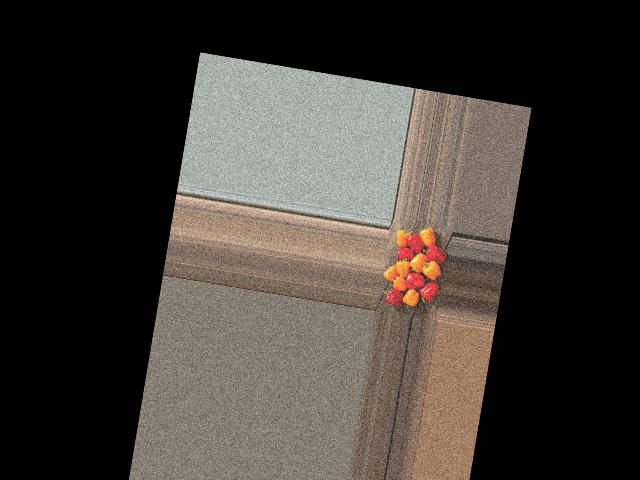bell_pepper: (416, 225, 441, 253)
